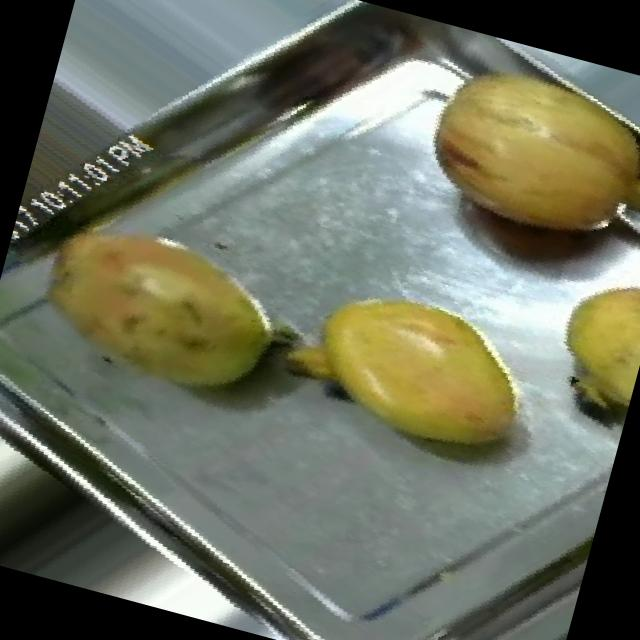fruit: (4, 171, 328, 442), (266, 250, 570, 494), (384, 21, 640, 285), (521, 241, 640, 430)
